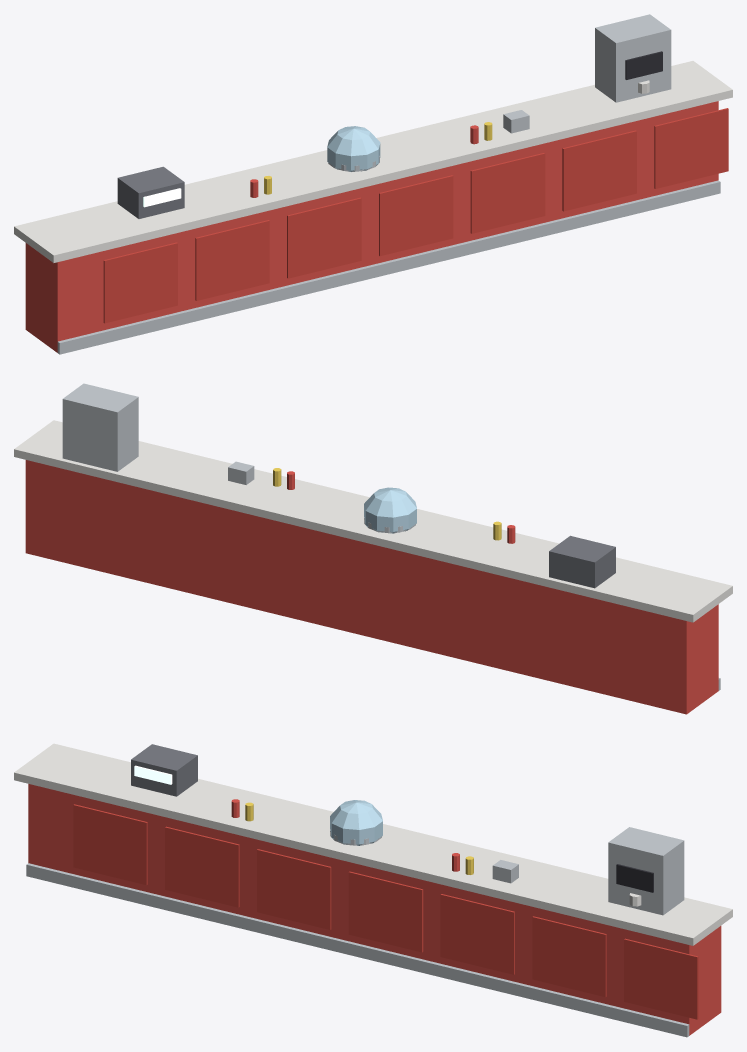
Rendered from diner_counter.glb.
3 renders of one model, top to bottom at view 1: azimuth 30°, elevation 25°; view 2: azimuth 150°, elevation 25°; view 3: azimuth 330°, elevation 25°, orthographic.
Visible parts, largest first — view 1: diner_counter; view 2: diner_counter; view 3: diner_counter.
Part boxes in pixels (box(x1,y1,x2,y2)): diner_counter: box(14, 14, 732, 354); diner_counter: box(14, 383, 732, 714); diner_counter: box(14, 743, 732, 1037).
Size of the model in its own units: 7.4 by 1.7 by 0.75.
